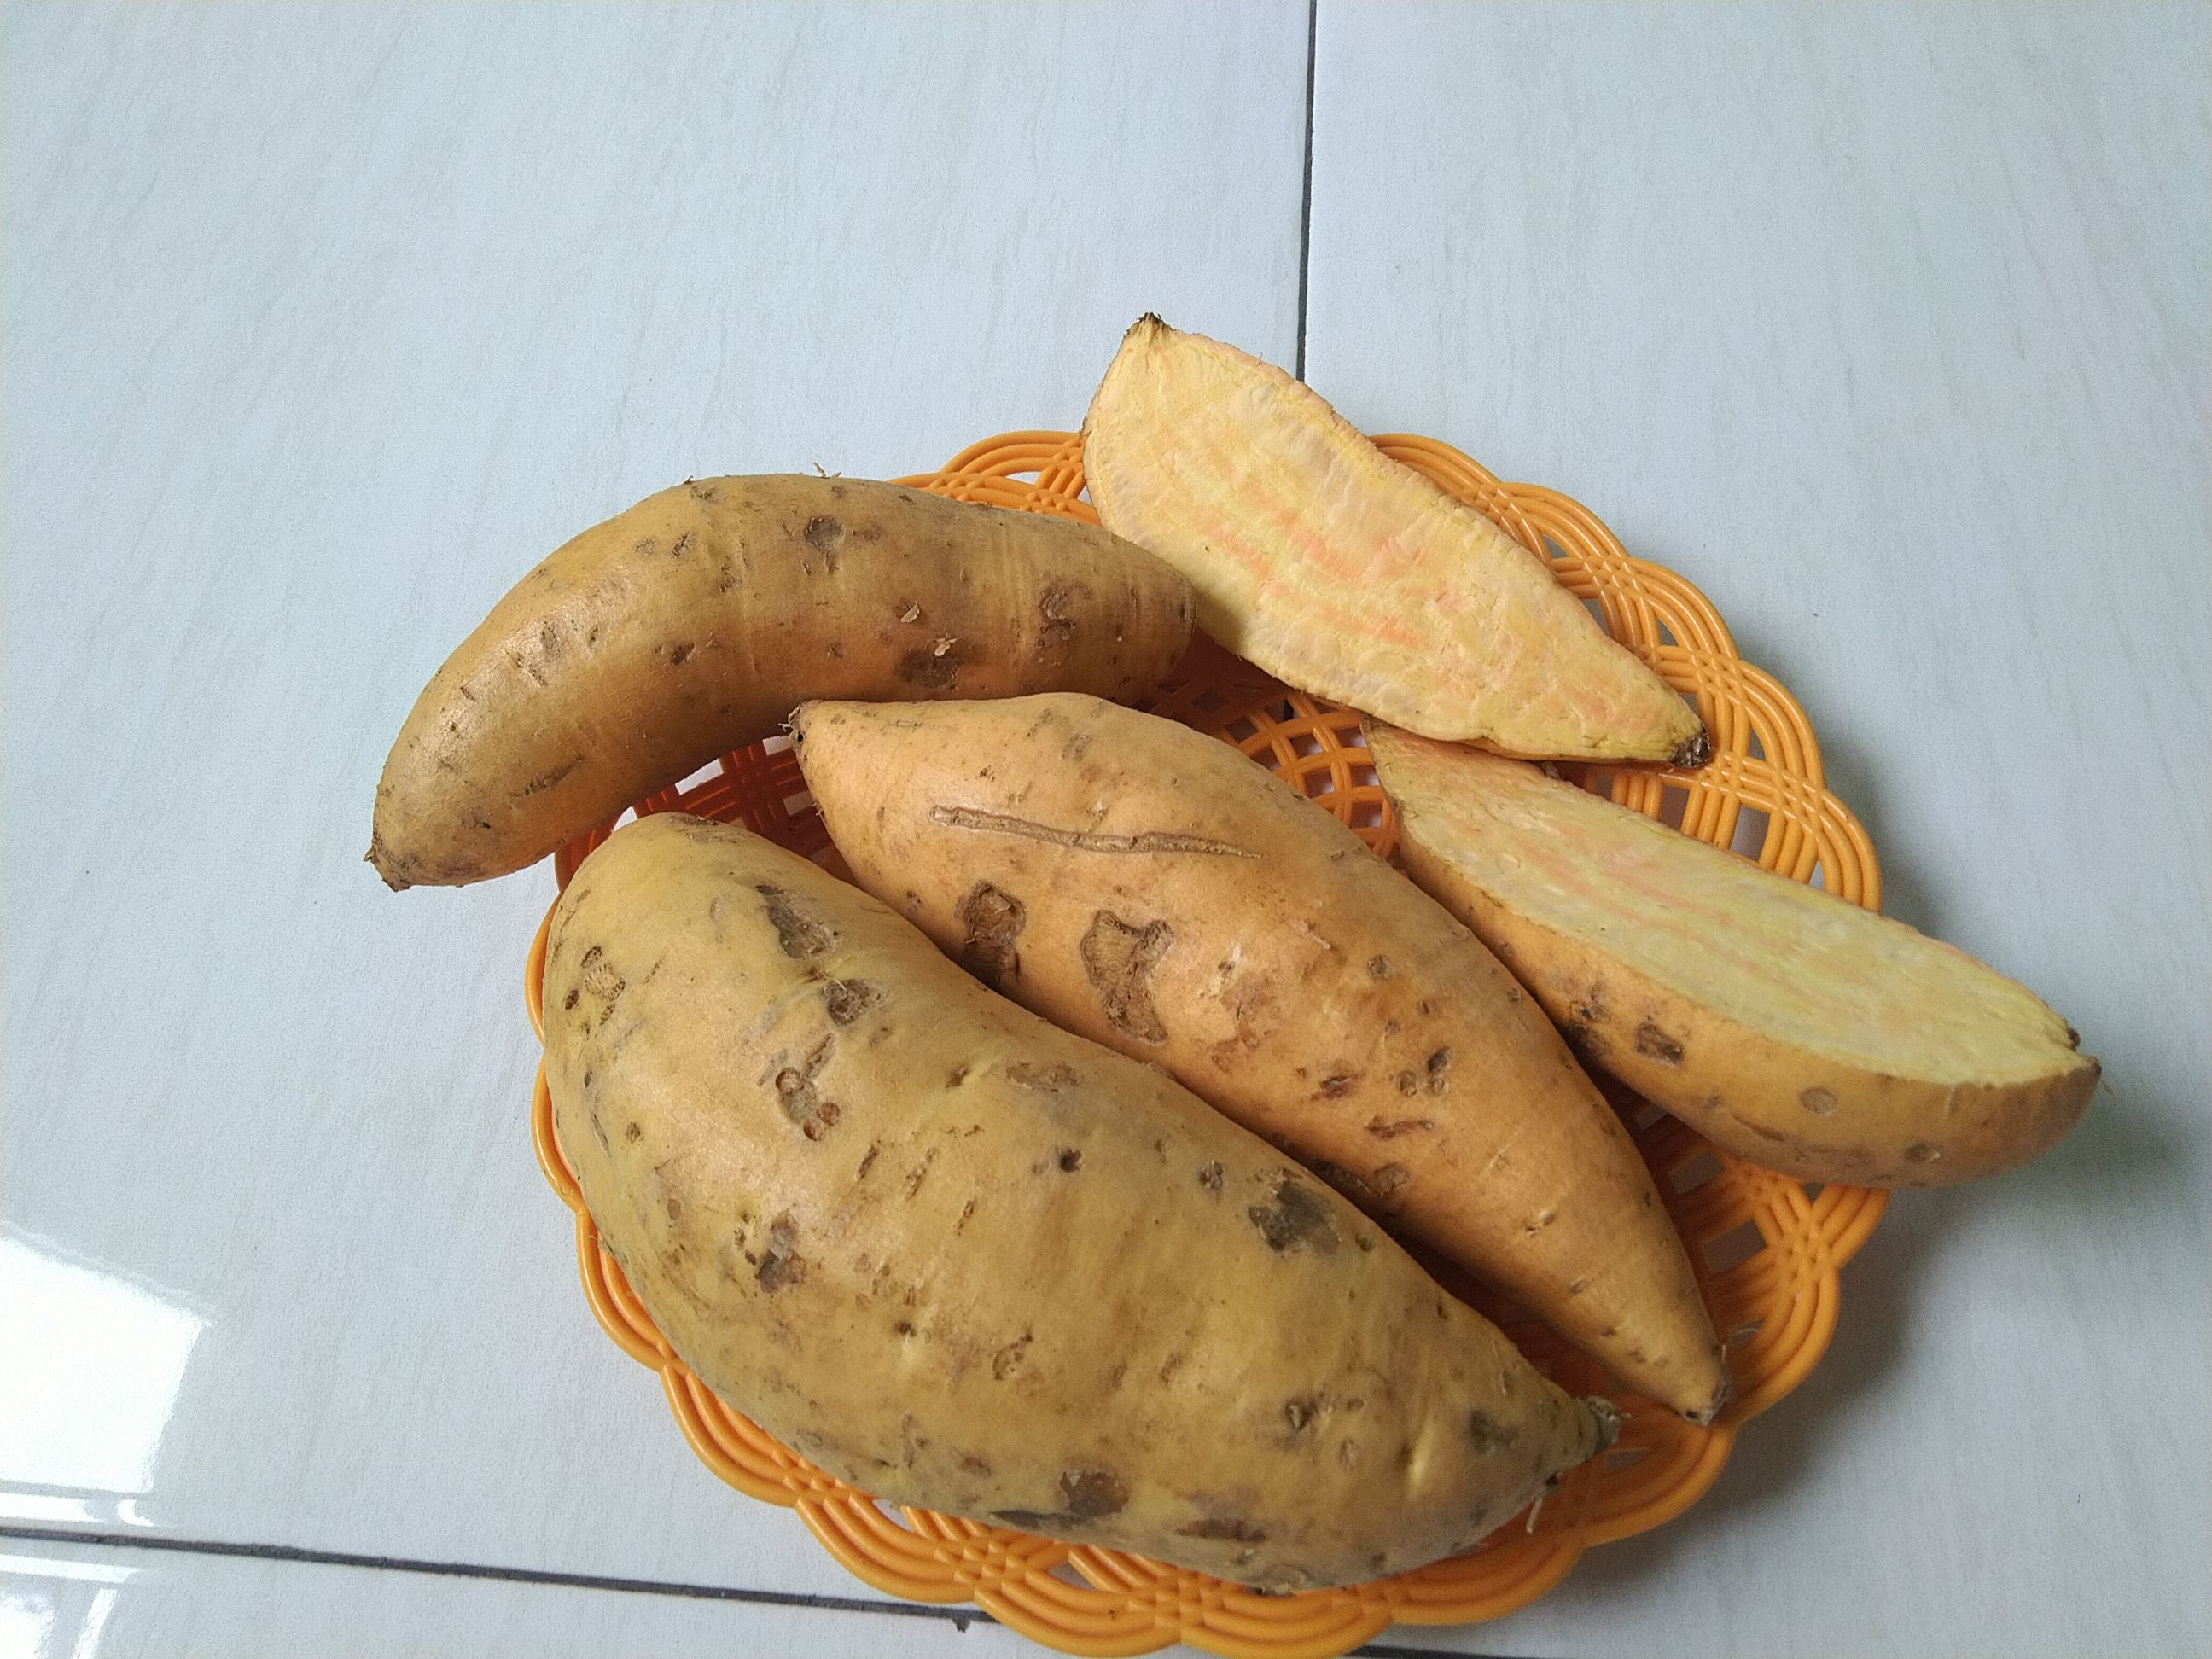ubi cilembu: (768, 687, 2120, 1443), (533, 807, 1714, 1600), (789, 701, 1745, 1462), (347, 464, 1223, 908), (1366, 730, 2125, 1176), (1075, 295, 1730, 775)
